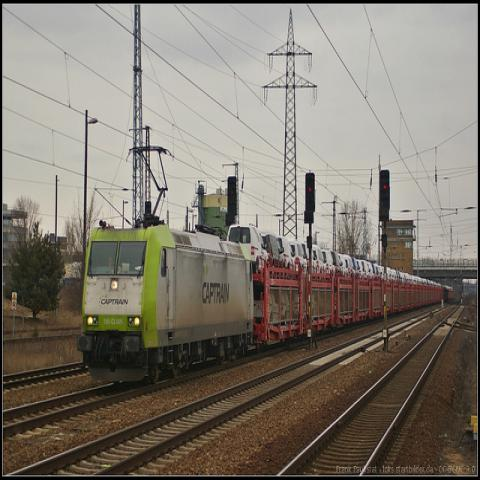truck: (225, 221, 269, 274), (261, 232, 286, 268), (321, 249, 336, 272), (312, 244, 325, 268), (343, 255, 355, 274), (331, 251, 341, 272), (364, 261, 374, 279)
